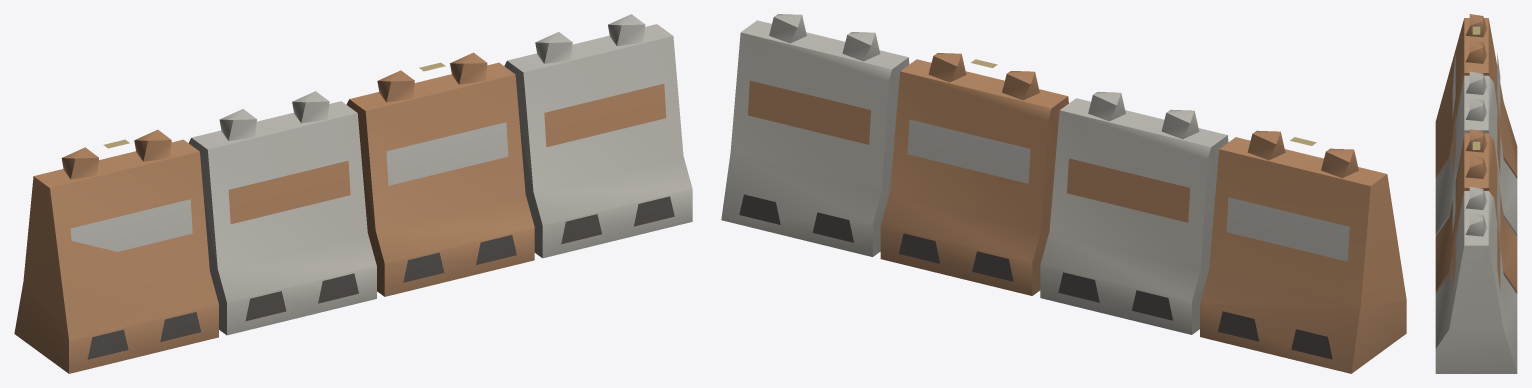
The model's file is barrier.lod1.glb.
3 views of the same model, side by side, from view 1: azimuth 30°, elevation 25°; view 2: azimuth 150°, elevation 25°; view 3: azimuth 270°, elevation 25° (orthographic). The views are drawn at different scales.
Bounding box in the file's own units: 3.95 × 1.16 × 0.608.
